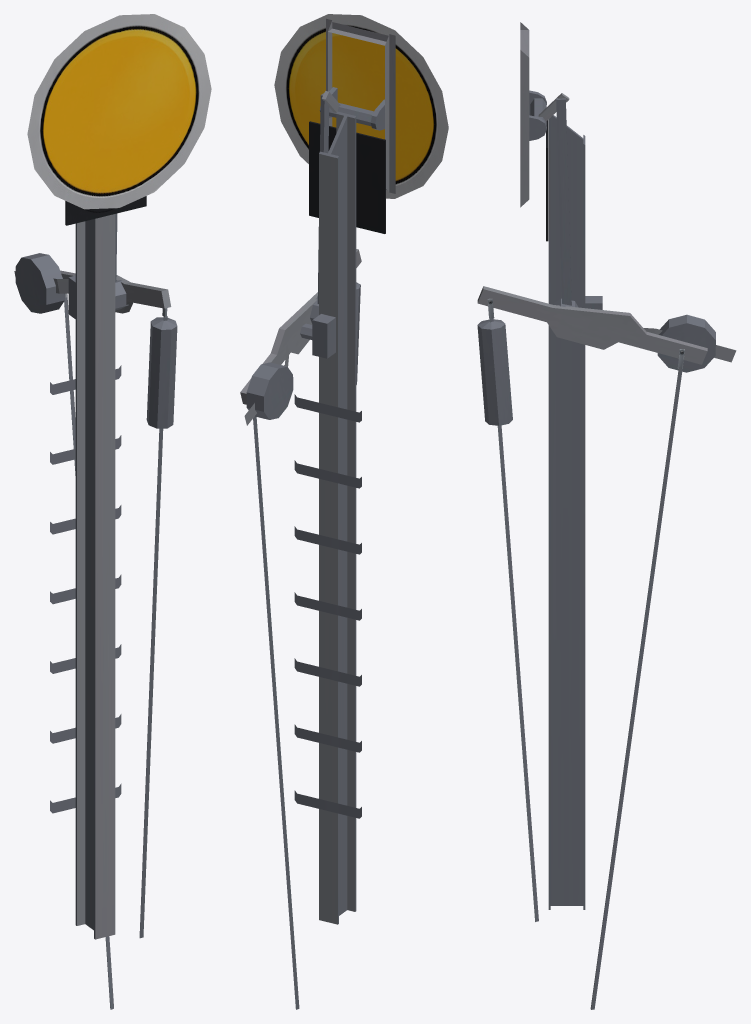
File: predvest.obj
3 views of the same model, side by side, from view 1: azimuth 30°, elevation 25°; view 2: azimuth 150°, elevation 25°; view 3: azimuth 270°, elevation 25° (orthographic). The views are drawn at different scales.
Parts seen in each view (by area): view 1: sloup, stit, tahlo_1, zavazi, tahlo_2; view 2: sloup, stit, zavazi, tahlo_2, tahlo_3; view 3: sloup, zavazi, tahlo_1, tahlo_2, stit, tahlo_3.
Boxes of the visible parts, x1=… form: sloup: x1=50, y1=196, x2=146, y2=939; stit: x1=27, y1=14, x2=211, y2=209; tahlo_1: x1=139, y1=308, x2=177, y2=938; zavazi: x1=14, y1=253, x2=171, y2=313; tahlo_2: x1=64, y1=293, x2=113, y2=1009; sloup: x1=294, y1=111, x2=385, y2=924; stit: x1=274, y1=14, x2=448, y2=198; zavazi: x1=240, y1=249, x2=361, y2=425; tahlo_2: x1=253, y1=416, x2=299, y2=1009; tahlo_3: x1=317, y1=93, x2=329, y2=303; sloup: x1=546, y1=115, x2=602, y2=909; zavazi: x1=477, y1=286, x2=736, y2=372; tahlo_1: x1=477, y1=298, x2=538, y2=921; tahlo_2: x1=590, y1=349, x2=684, y2=1009; stit: x1=520, y1=22, x2=569, y2=207; tahlo_3: x1=556, y1=98, x2=571, y2=305.
Bounding box in the file's own units: 0.6109 × 3.26 × 0.7872.
